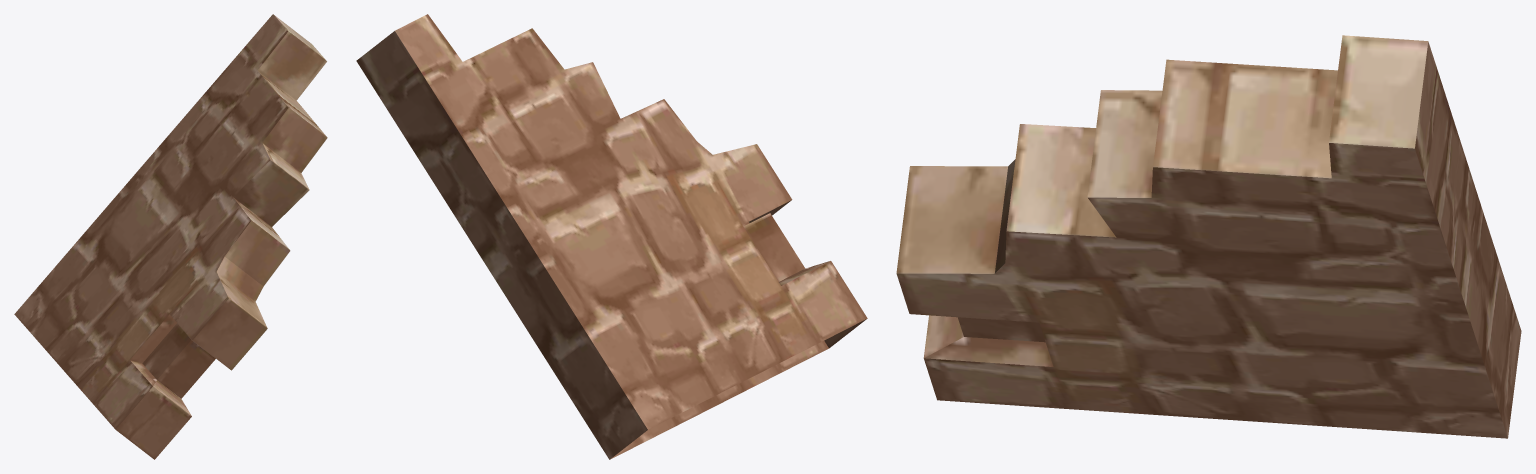
Rendered from caodi_weiqiang_06.fbx.
3 views of the same model, side by side, from view 1: azimuth 30°, elevation 25°; view 2: azimuth 150°, elevation 25°; view 3: azimuth 270°, elevation 25° (orthographic). The views are drawn at different scales.
Visible parts, largest first — view 1: caodi_weiqiang_06; view 2: caodi_weiqiang_06; view 3: caodi_weiqiang_06.
Part boxes in pixels (bbox=[...]): caodi_weiqiang_06: bbox=[14, 14, 327, 459]; caodi_weiqiang_06: bbox=[356, 14, 867, 459]; caodi_weiqiang_06: bbox=[896, 35, 1521, 438].
Bounding box in the file's own units: 9.24 × 8.4 × 8.
